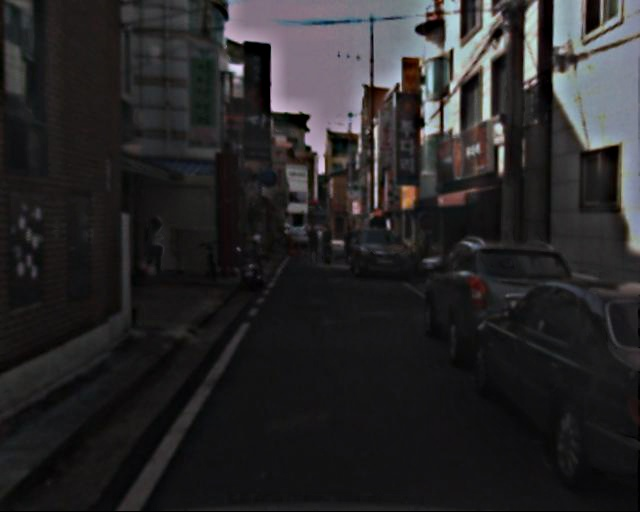person: (145, 211, 174, 281), (305, 224, 322, 266), (320, 223, 337, 264), (341, 224, 357, 264)
